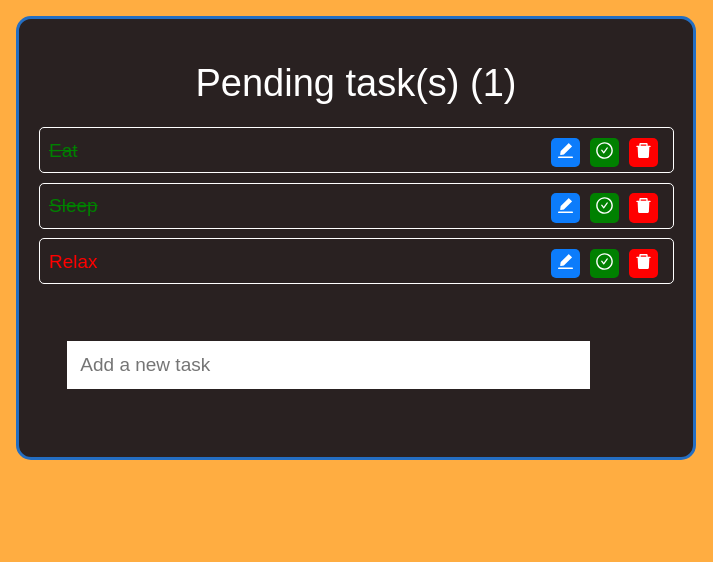
Test: test todo list › should render the todo list
// Toggle task status
Click the button with test id "todo-Relax": (605,264) [590,249,619,279]
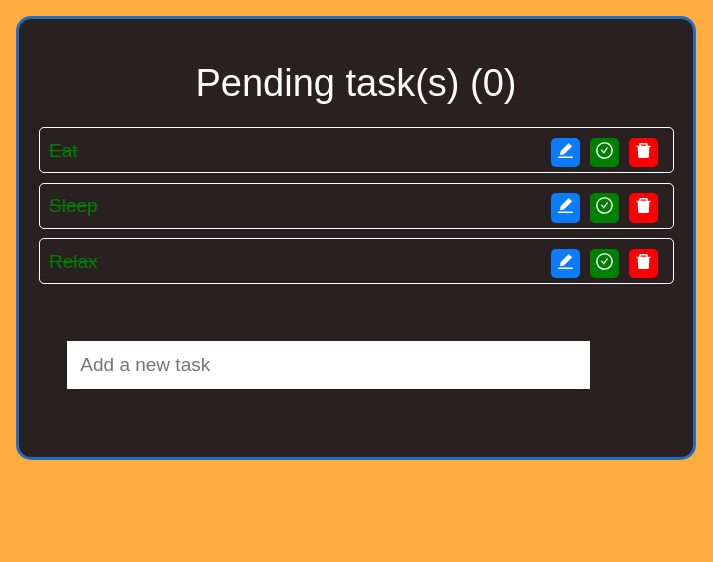
Expected: the element with test id "todo-class-Relax" has class "task completed", [39,238,674,284]
// Add new task
In the field with test id "todo-add": (329,365) [67,341,590,389], type "Code"
Then press Enter
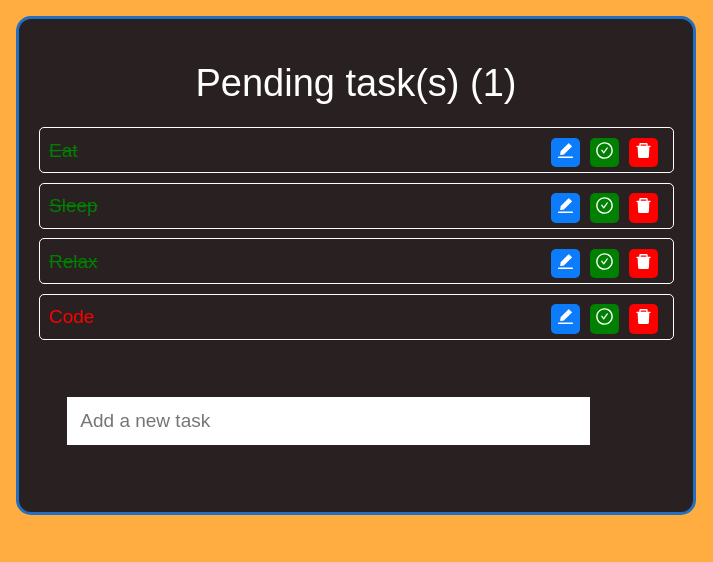
Expected: the text "Code" is shown, [38,294,674,340]
// Edit task
Click the button with test id "todo-edit-Code": (566,319) [551,304,580,334]
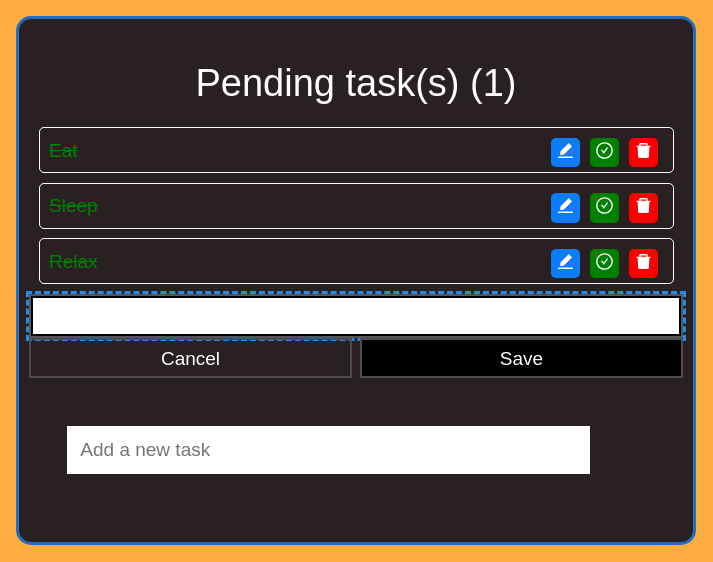
In the field with test id "todo-edit-input-Code": (356,316) [29,294,683,338], type "Work"
Then press Enter
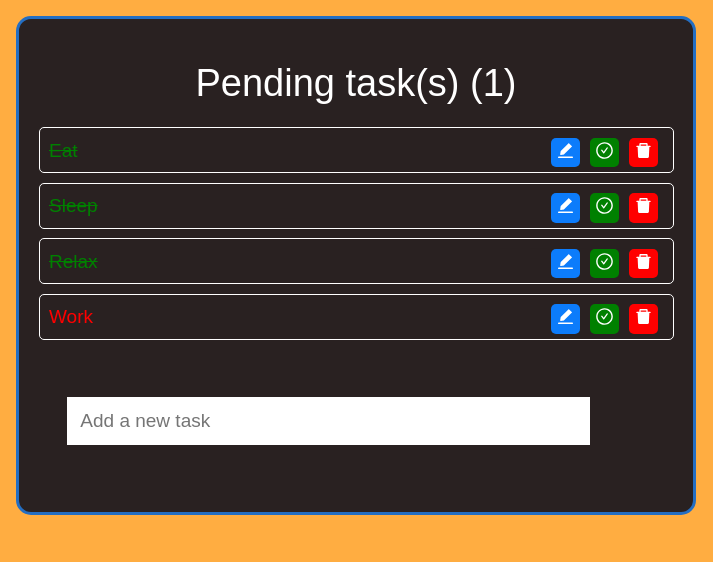
Expected: the text "Work" is shown, [38,294,674,340]
// Delete task
Click the button with test id "delete-button-Work": (644,319) [629,304,658,334]
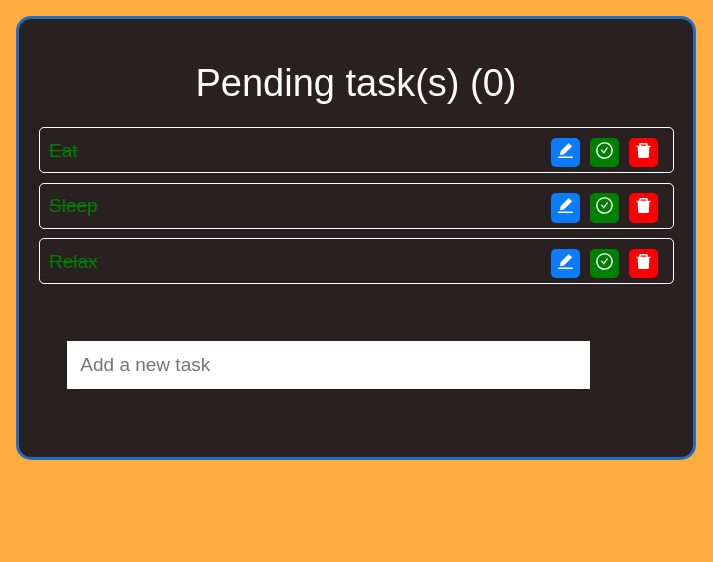
Expected: the text "Work" is gone
Expected: the text "Pending task(s) (0)" is shown, [196,62,516,104]
